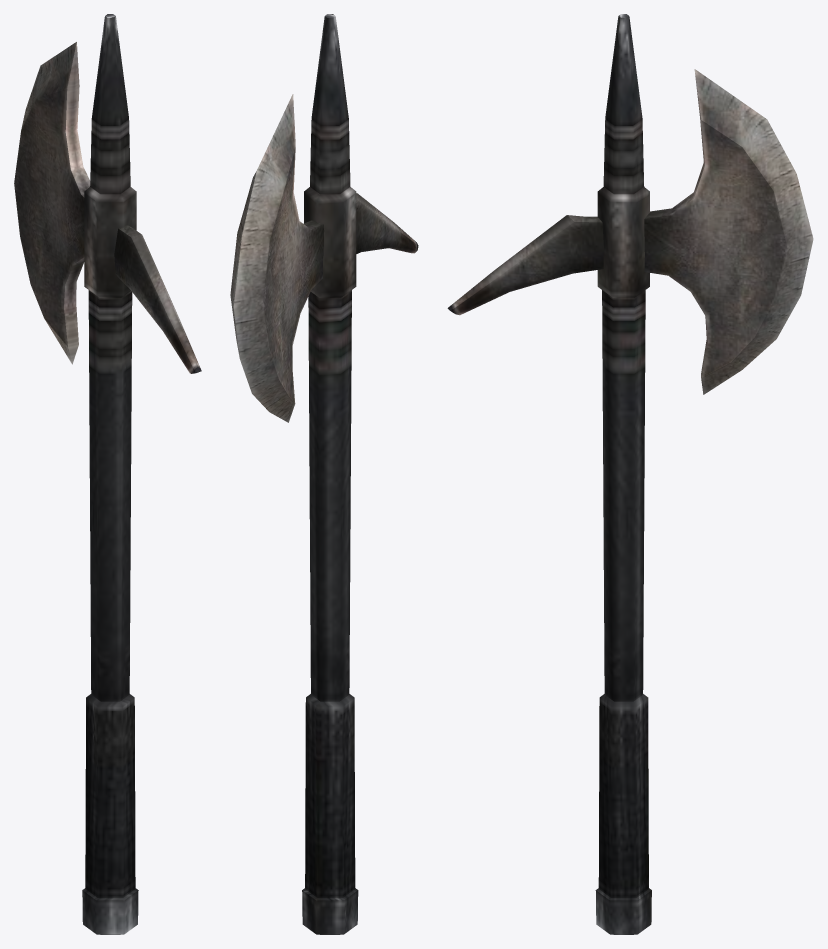
The model's file is weapons_axe04.glb.
3 renders of one model, left to right at view 1: azimuth 30°, elevation 25°; view 2: azimuth 150°, elevation 25°; view 3: azimuth 270°, elevation 25°, orthographic.
Parts seen in each view (by area): view 1: axe04; view 2: axe04; view 3: axe04.
Part boxes in pixels (x1,y1,x2,y2): axe04: (14, 14, 201, 934); axe04: (230, 14, 418, 934); axe04: (447, 14, 813, 934).
Bounding box in the file's own units: 0.0478 × 0.9908 × 0.3604.
1 material, 1 textured.
